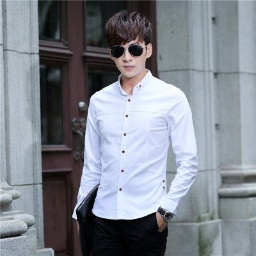face: (101, 8, 156, 78)
